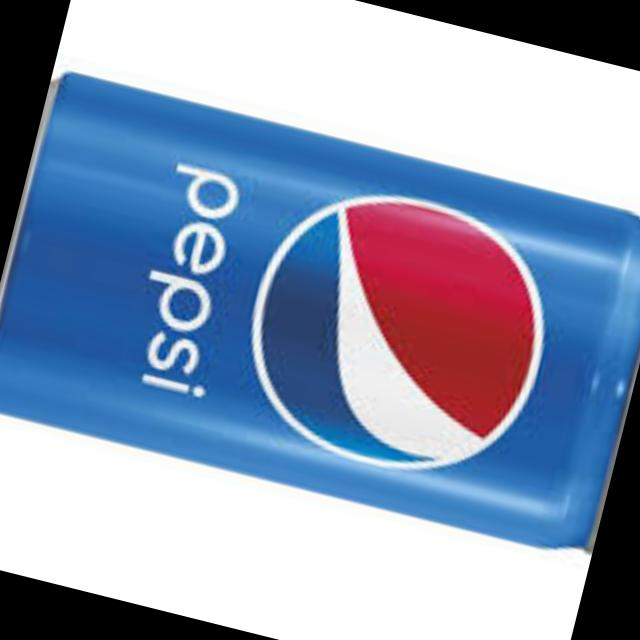metal: (0, 70, 640, 545)
